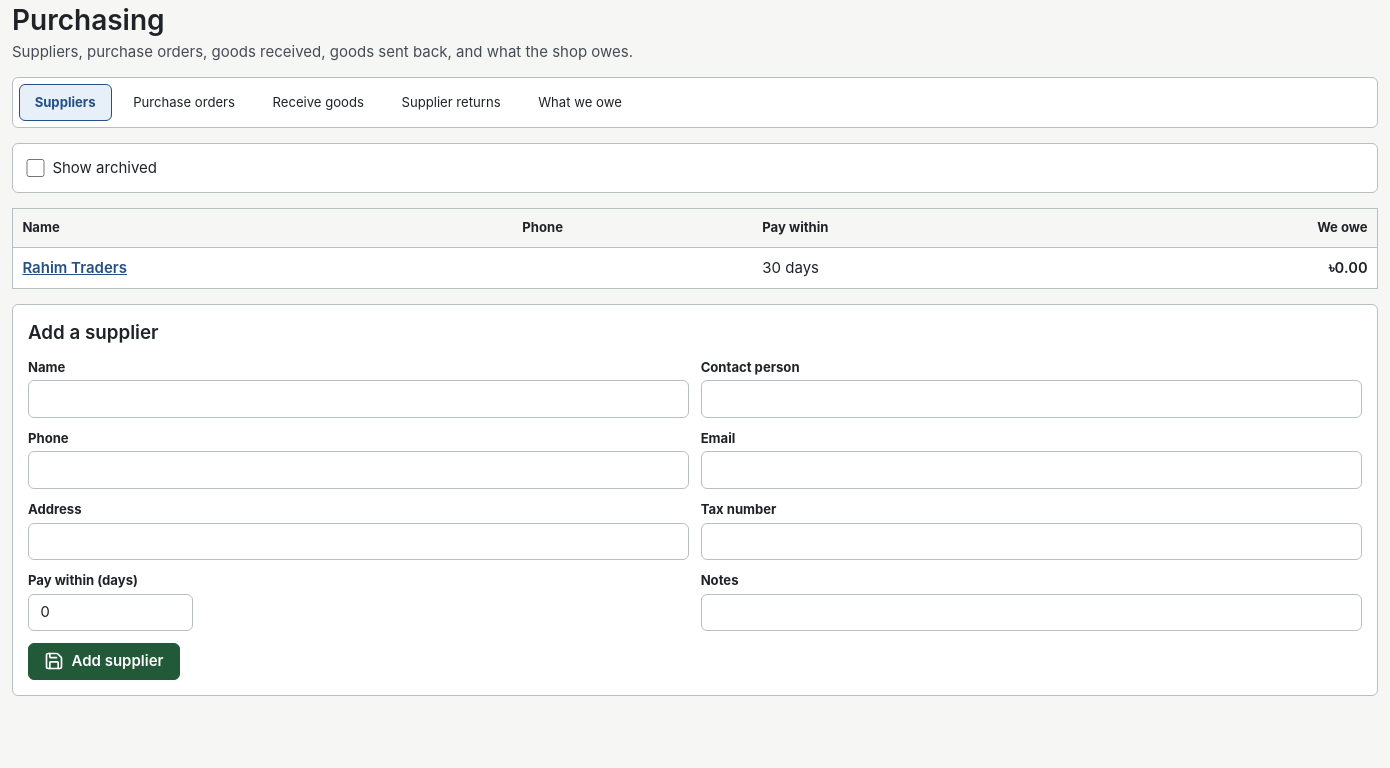
Scenario: PurchasingPage (fake bridge) › pur_03: receiving shows the lines total and warns when the invoice differs
The width and height of the screenshot is (1390, 768).
Check: the button "Rahim Traders" is shown, box [22,257,127,279]
Click the tab "Receive goods": (318, 103) [256,84,380,122]
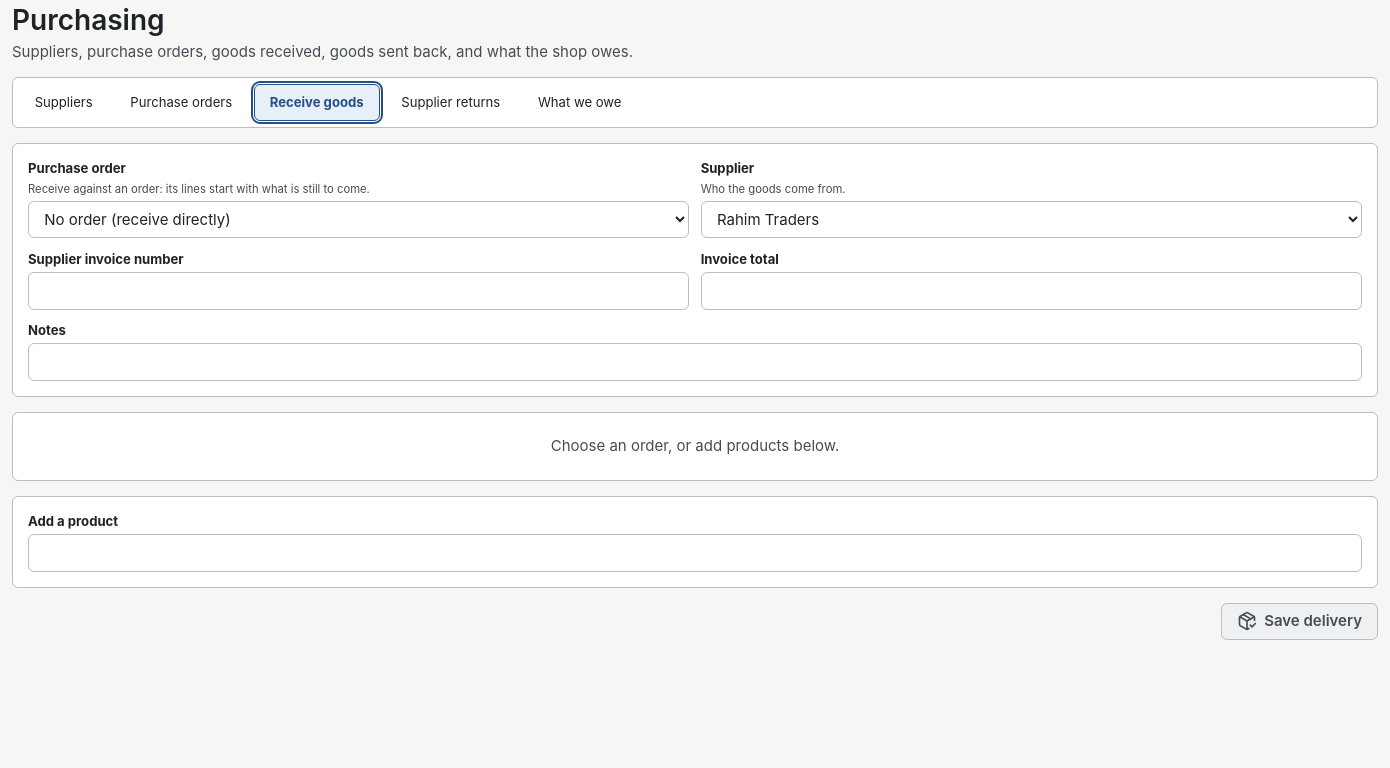
In the field labelled "Add a product": (695, 553) [28,534,1362,572], type "milk"
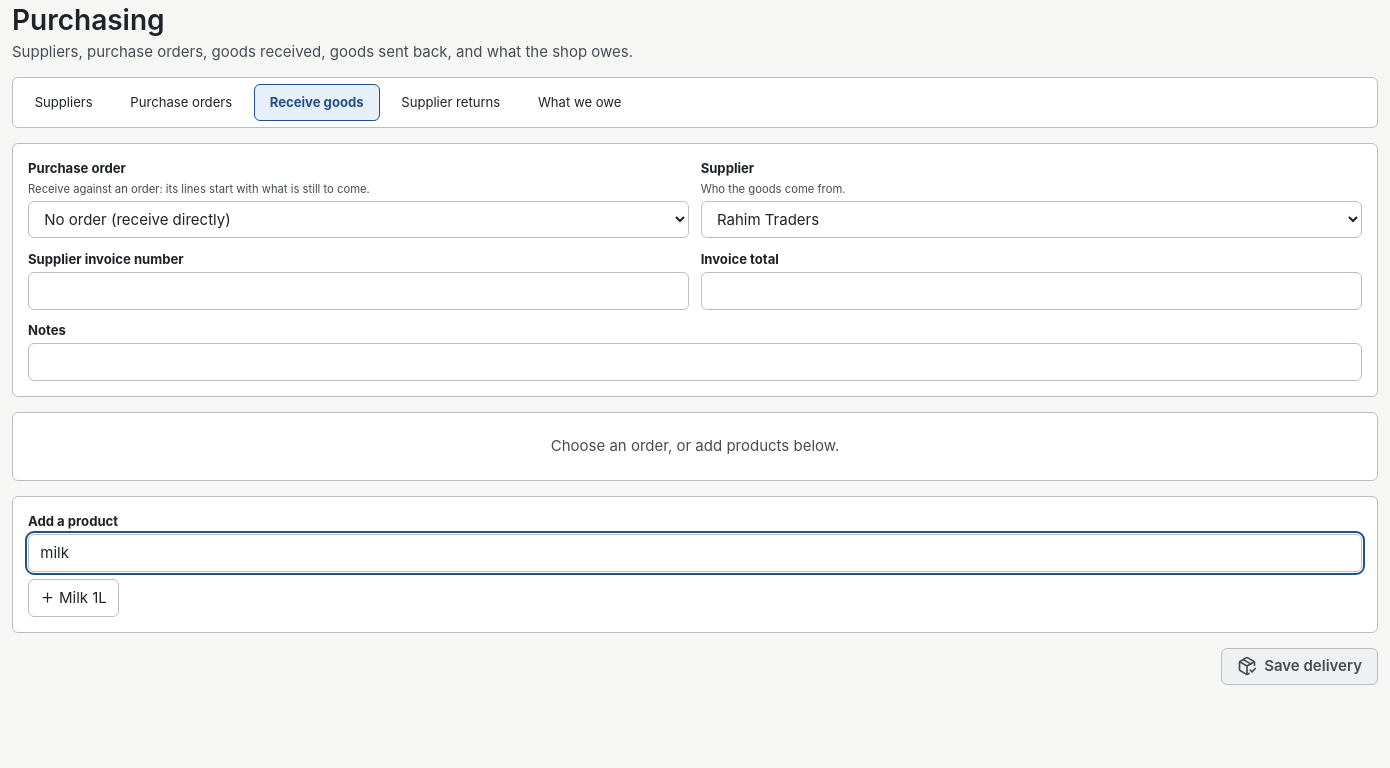
Click the button "Milk 1L": (74, 598) [28,579,119,617]
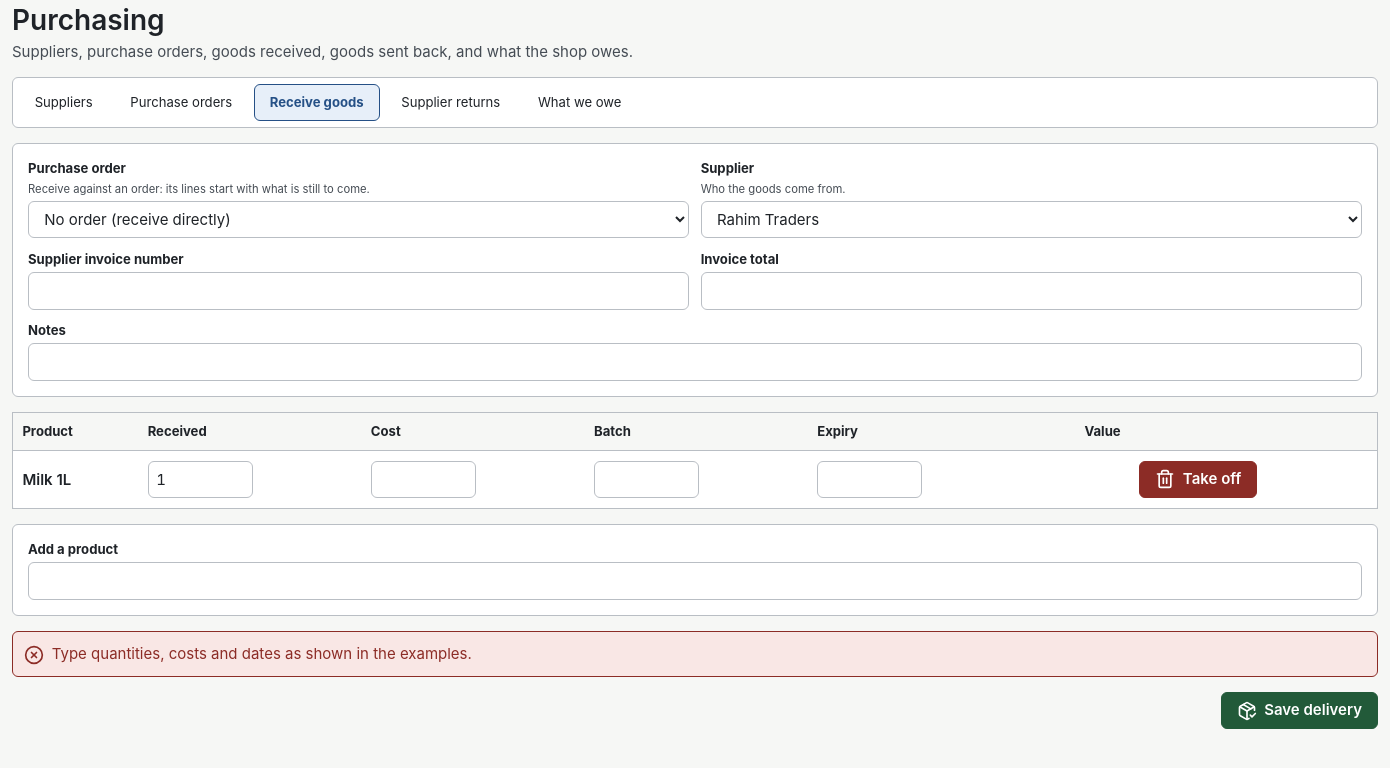
Replace the text in the field named "Received of Milk 1L" with "10": (200, 479) [148,461,253,498]
In the field named "Cost of Milk 1L": (423, 479) [371,461,476,498], type "75"
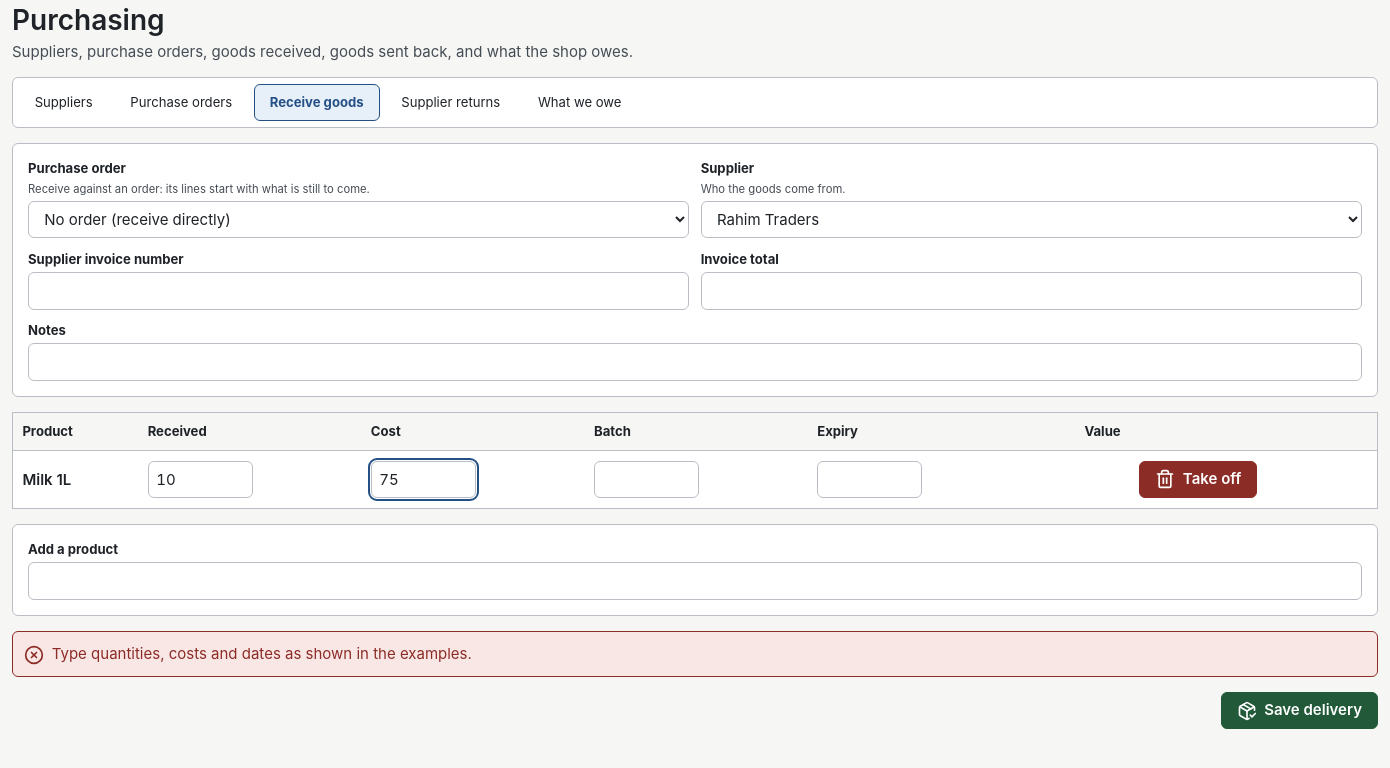
In the field labelled "Invoice total": (1031, 291) [701,272,1362,310], type "760"
(page scrolled)
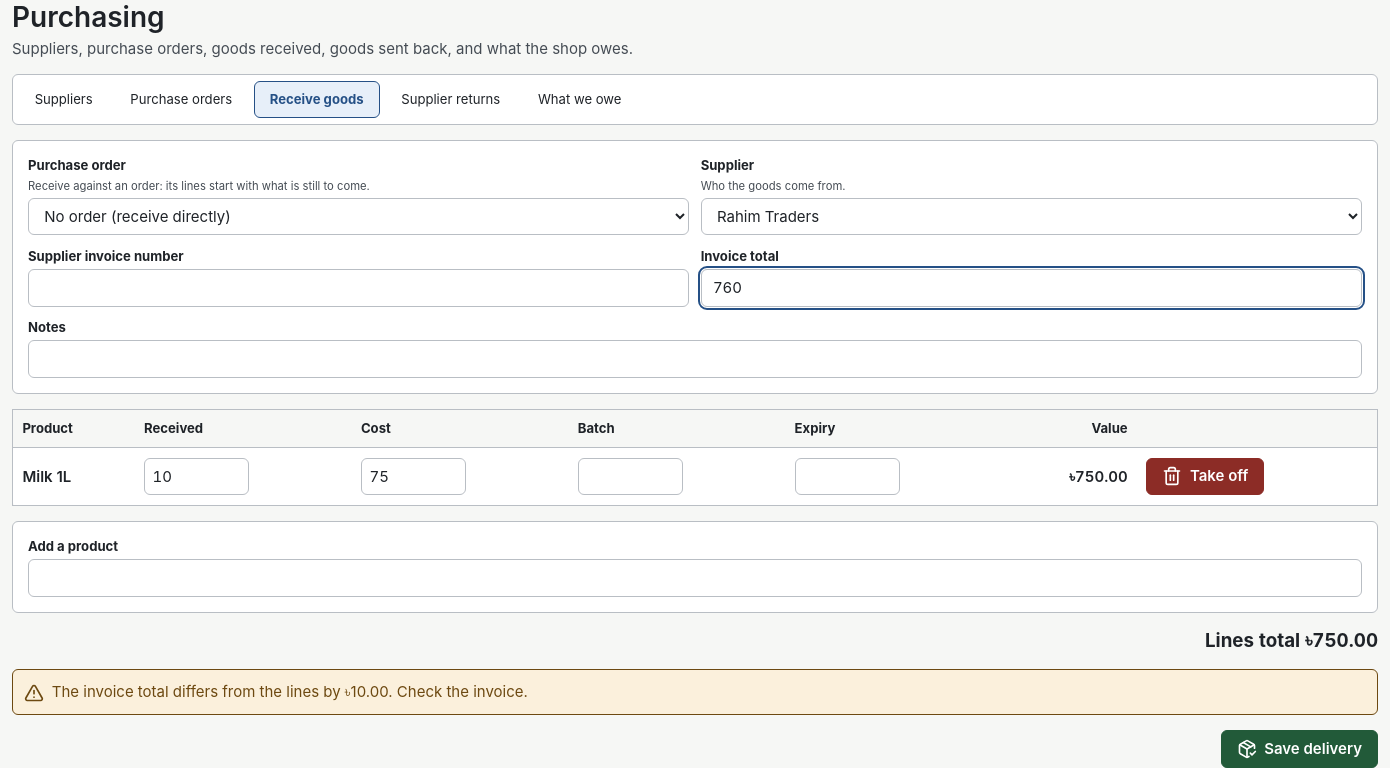
Check: the text "Lines total ৳750.00" is shown, box [1205,629,1378,652]
Check: the text "differs from the lines by ৳10.00" is shown, box [52,682,528,701]
Click the button "Save delivery": (1299, 749) [1221,730,1378,767]
(page scrolled)
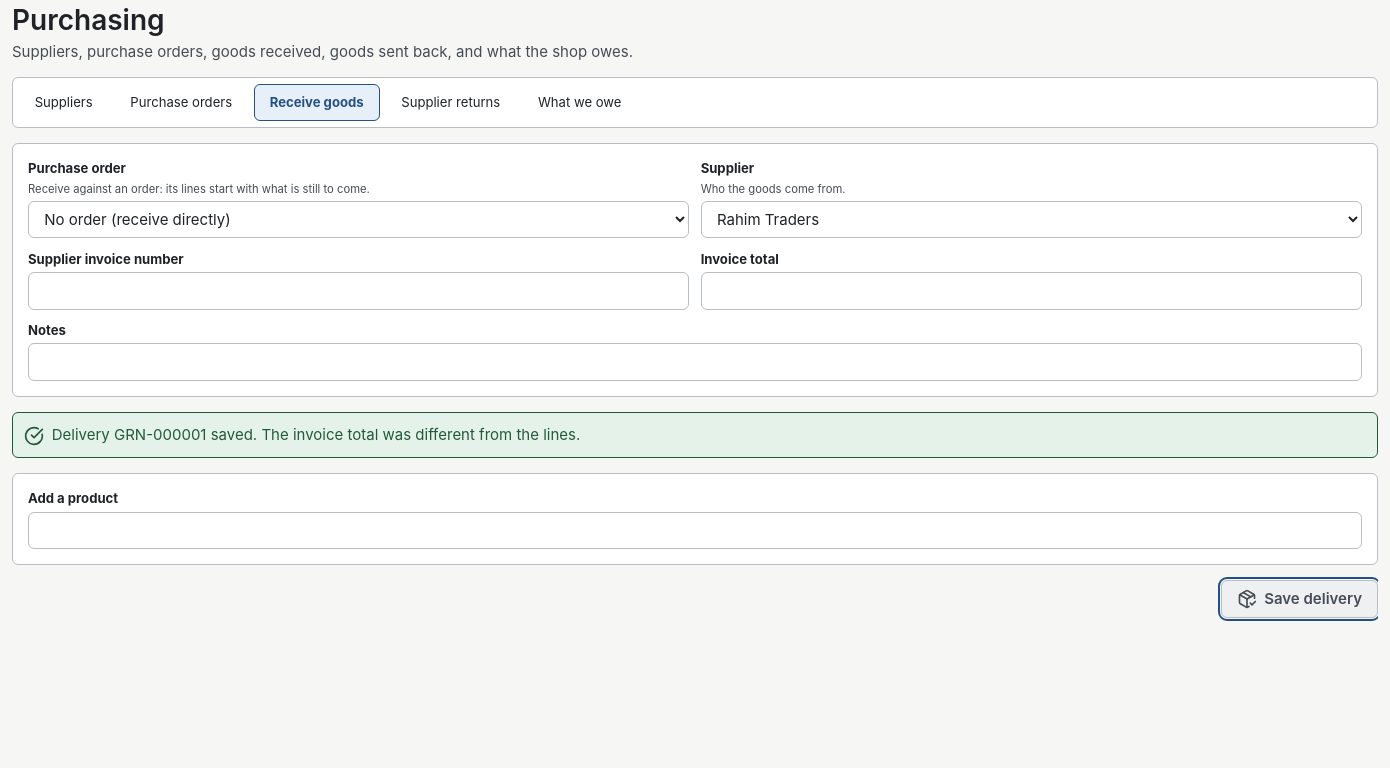
Check: the text "Delivery GRN-000001 saved." is shown, box [52,425,257,444]
